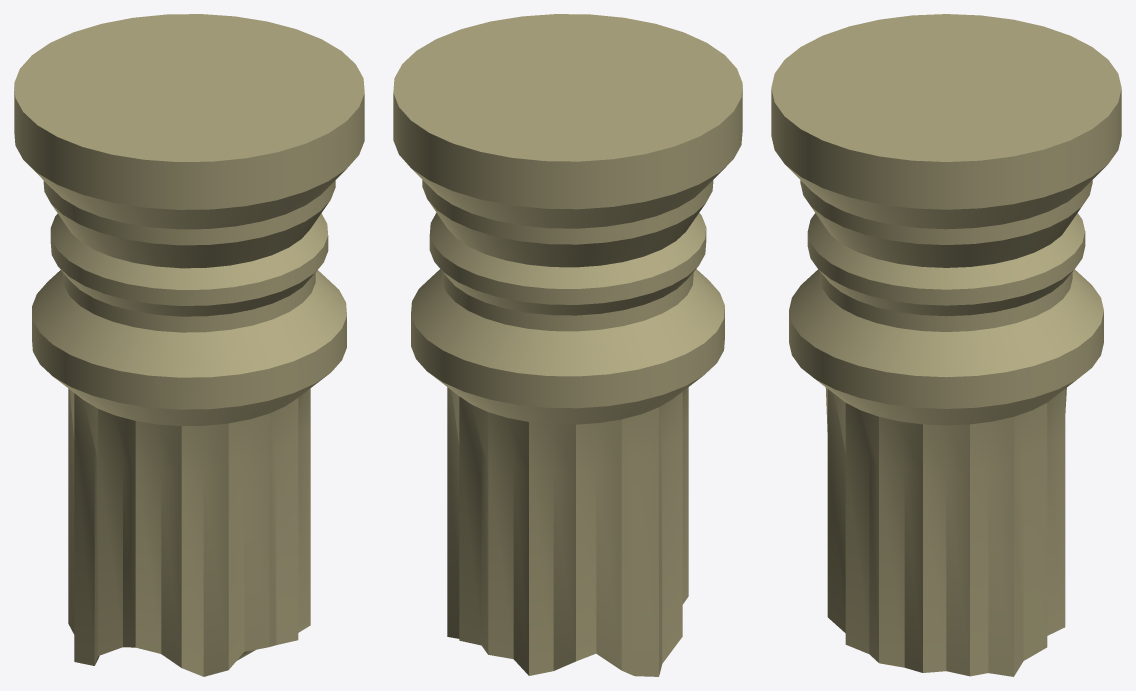
The model's file is column_broken_top_3.fbx.
3 renders of one model, left to right at view 1: azimuth 30°, elevation 25°; view 2: azimuth 150°, elevation 25°; view 3: azimuth 270°, elevation 25°, orthographic.
Parts seen in each view (by area): view 1: Column_Broken_Top_2; view 2: Column_Broken_Top_2; view 3: Column_Broken_Top_2.
Part boxes in pixels (<box>): Column_Broken_Top_2: <box>14,14,364,676</box>; Column_Broken_Top_2: <box>393,14,742,676</box>; Column_Broken_Top_2: <box>771,14,1121,676</box>.
Bounding box in the file's own units: 171 × 305 × 171.
